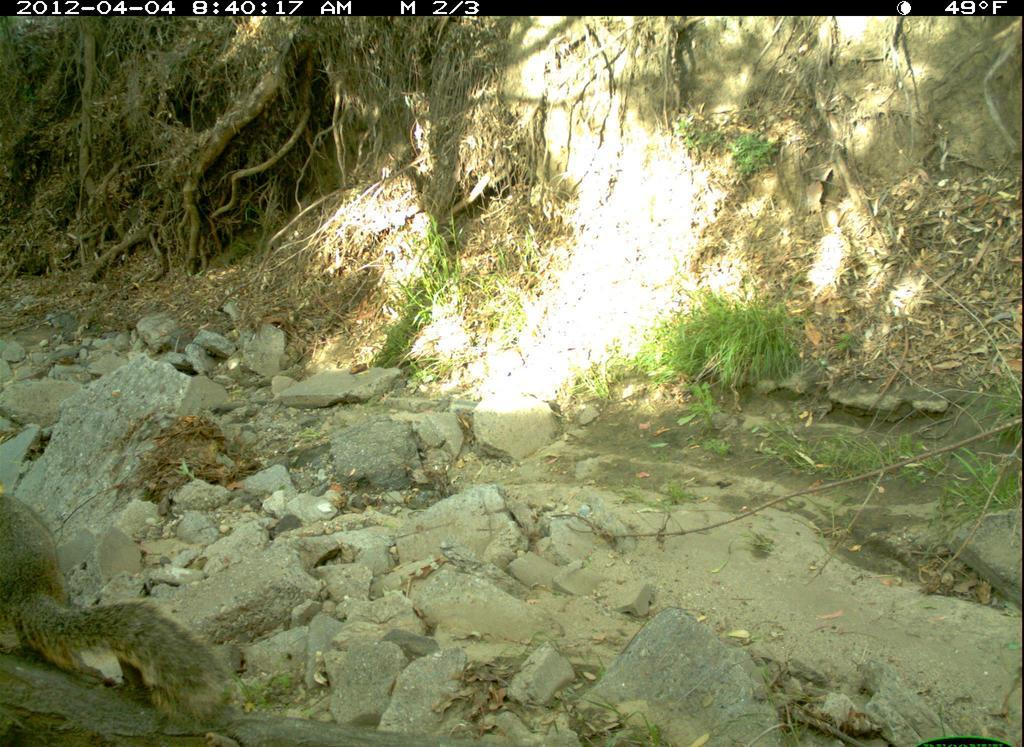squirrel: (3, 487, 237, 729)
